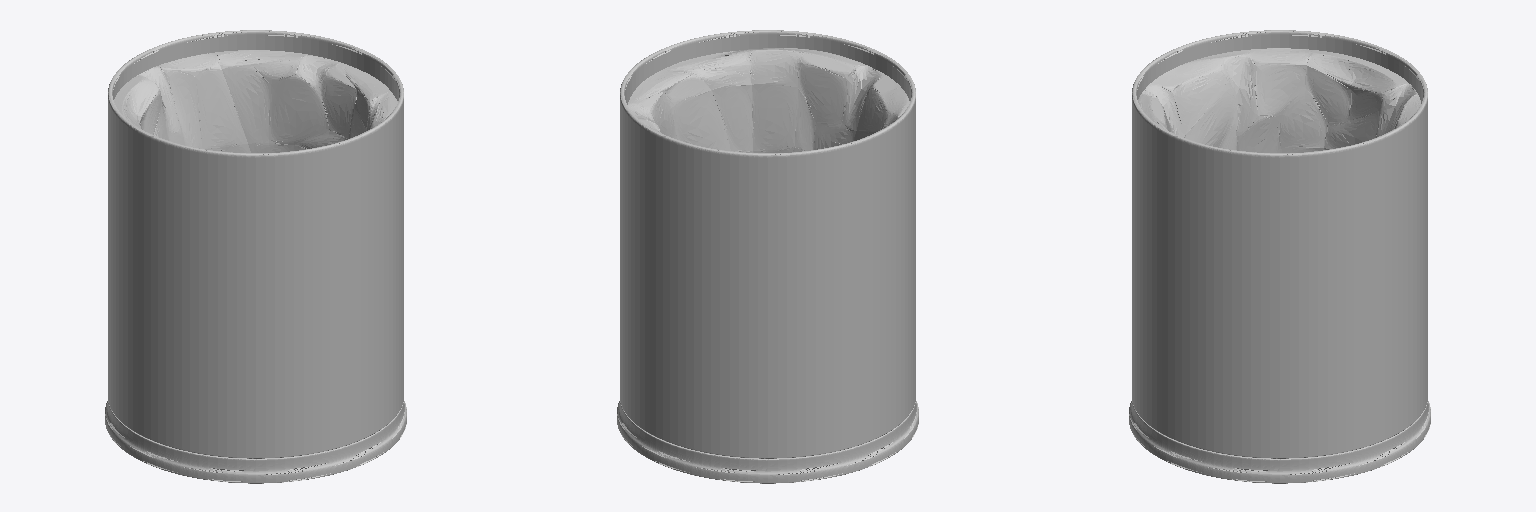
The model's file is Trash Bin.obj.
3 views of the same model, side by side, from view 1: azimuth 30°, elevation 25°; view 2: azimuth 150°, elevation 25°; view 3: azimuth 270°, elevation 25° (orthographic).
Parts seen in each view (by area): view 1: Bin, Bag; view 2: Bin, Bag; view 3: Bin, Bag.
Part boxes in pixels (bbox=[...]): Bin: bbox=[105, 30, 406, 483]; Bag: bbox=[114, 50, 397, 152]; Bin: bbox=[617, 30, 918, 483]; Bag: bbox=[628, 48, 909, 152]; Bin: bbox=[1129, 30, 1430, 483]; Bag: bbox=[1138, 48, 1420, 152].
Bounding box in the file's own units: 29.25 × 34.98 × 29.25.